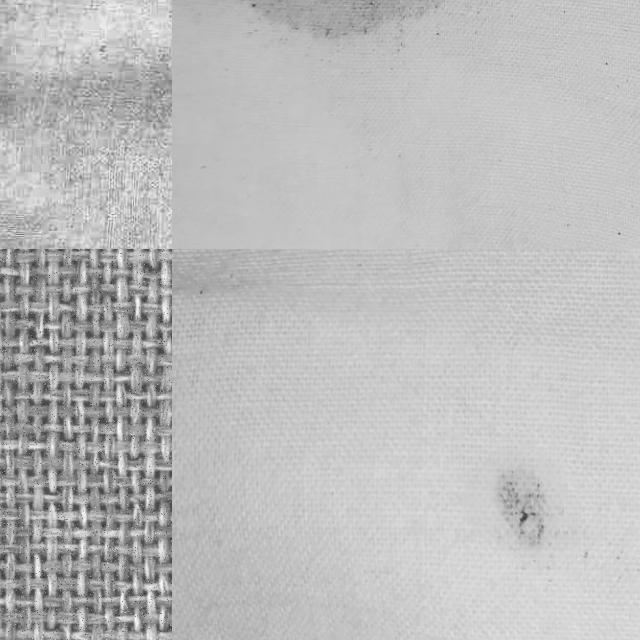Thread_other: (172, 0, 540, 115), (451, 450, 581, 576)
